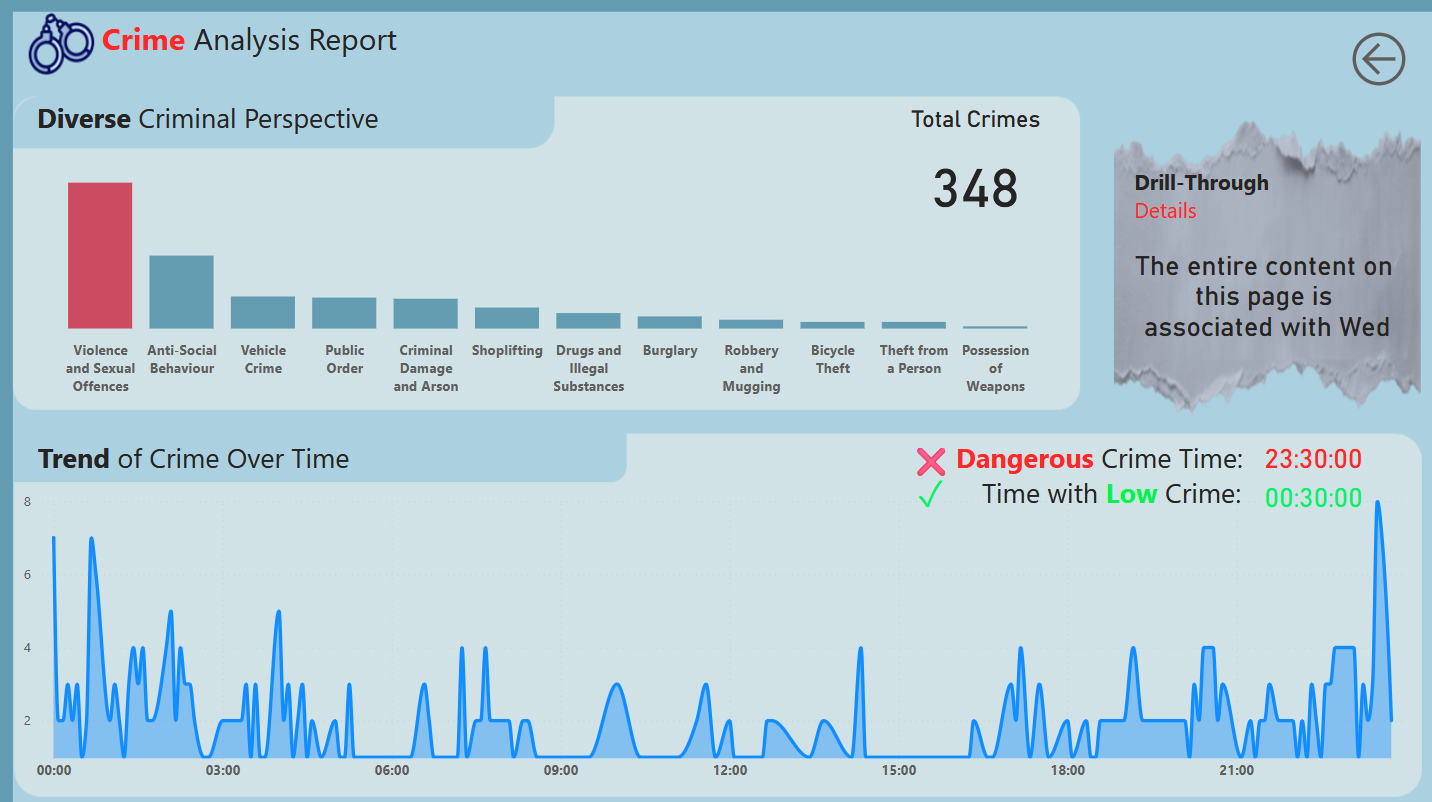

Layout of this report page (visuals, bound fields, positions):
{"tool":"powerbi","page":{"name":"Details","canvas":[1280,720],"ordinal":2},"visuals":[{"type":"actionButton","box":[1195.6,22.9,60.3,61.5],"z":0},{"type":"stackedAreaChart","fields":{"Category":["Crimes Data.Crime Time"],"Y":["calculated_table.Total_Crimes"]},"box":[19.3,431.9,1239,271.4],"z":1000},{"type":"card","fields":{"Values":["calculated_table.DrillThrough"]},"box":[1003.8,194.2,246.1,136.3],"z":2000},{"type":"clusteredColumnChart","fields":{"Y":["calculated_table.Total_Crimes"],"Category":["Crime Types.Crime"]},"box":[19.3,131.5,930.2,228],"z":3000},{"type":"textbox","box":[845.7,386,270.2,50.7],"z":4000,"group":"g1"},{"type":"card","fields":{"Values":["calculated_table.cross"]},"box":[789,380,79.6,62.7],"z":5000,"group":"g1"},{"type":"textbox","box":[868.6,417.4,270.2,50.7],"z":6000,"group":"g1"},{"type":"card","fields":{"Values":["calculated_table.check"]},"box":[799.9,411.4,56.7,56.7],"z":7000,"group":"g1"},{"type":"card","fields":{"Values":["Min(Crimes Data.Crime Time)"]},"box":[1115.9,386,103.8,43.4],"z":8000,"group":"g1"},{"type":"card","fields":{"Values":["Min(Crimes Data.Crime Time)"]},"box":[1115.9,419.8,103.8,43.4],"z":9000,"group":"g1"},{"type":"textbox","box":[31.6,385.6,293.7,46.7],"z":10000},{"type":"textbox","box":[31.4,84.5,384.9,47.1],"z":11000},{"type":"card","title":"Total Crimes","fields":{"Values":["calculated_table.Total_Crimes"]},"box":[797.5,95.3,142.4,112.2],"z":12000},{"type":"textbox","box":[89.2,12.3,296.4,50.8],"z":13000},{"type":"textbox","box":[1003.8,144.8,135.1,62.7],"z":14000},{"type":"group","id":"g1","title":"Group 1","box":[789,380,430.7,88.1],"z":14001}]}

Visuals, with their boxes in screenshot pixels (x1, y1, x2, y2), scaled from the page's 1280x720 canvas onto the 1432x802 screenshot:
actionButton: [left=1338, top=26, right=1405, bottom=94]
stackedAreaChart - Crimes Data.Crime Time x calculated_table.Total_Crimes: [left=22, top=481, right=1408, bottom=783]
card - calculated_table.DrillThrough: [left=1123, top=216, right=1398, bottom=368]
clusteredColumnChart - calculated_table.Total_Crimes x Crime Types.Crime: [left=22, top=146, right=1062, bottom=400]
textbox: [left=946, top=430, right=1248, bottom=486]
card - calculated_table.cross: [left=883, top=423, right=972, bottom=493]
textbox: [left=972, top=465, right=1274, bottom=521]
card - calculated_table.check: [left=895, top=458, right=958, bottom=521]
card - Min(Crimes Data.Crime Time): [left=1248, top=430, right=1365, bottom=478]
card - Min(Crimes Data.Crime Time): [left=1248, top=468, right=1365, bottom=516]
textbox: [left=35, top=430, right=364, bottom=482]
textbox: [left=35, top=94, right=466, bottom=147]
"Total Crimes" card: [left=892, top=106, right=1052, bottom=231]
textbox: [left=100, top=14, right=431, bottom=70]
textbox: [left=1123, top=161, right=1274, bottom=231]
"Group 1" group: [left=883, top=423, right=1365, bottom=521]
